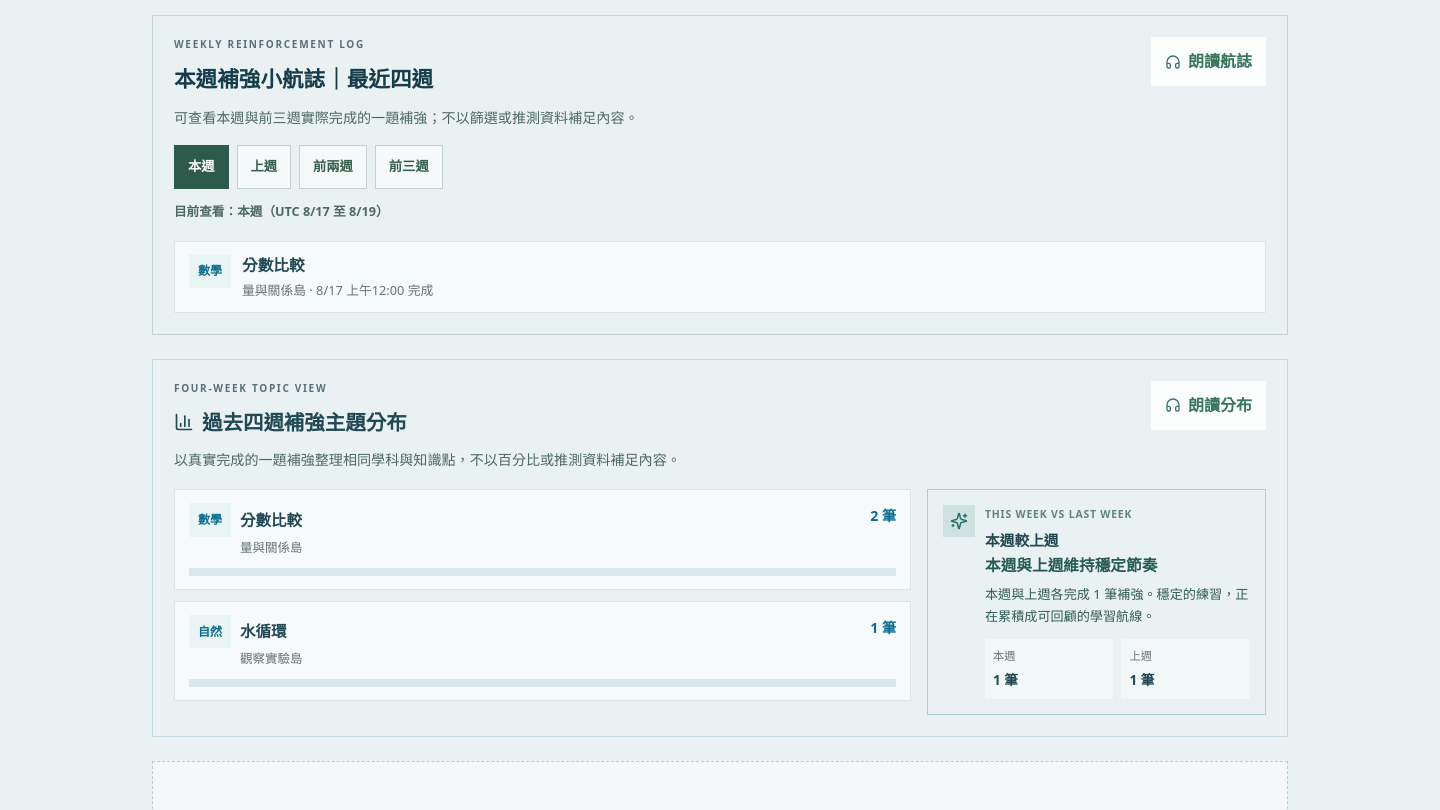
Test: TeacherParentSummary › shows a screen-reader-friendly four-week topic distribution from real reinforcement records and reads it
The image size is (1440, 810).
(page scrolled)
Expected: the element with test id "supporter-reinforcement-distribution" shows "過去四週補強主題分布", [202,408,407,436]
Expected: the element with test id "supporter-reinforcement-distribution" shows "分數比較", [189,503,896,576]
Click the button with aria-label "朗讀過去四週補強主題分布" at (1208, 405), box [1151,381,1266,430]
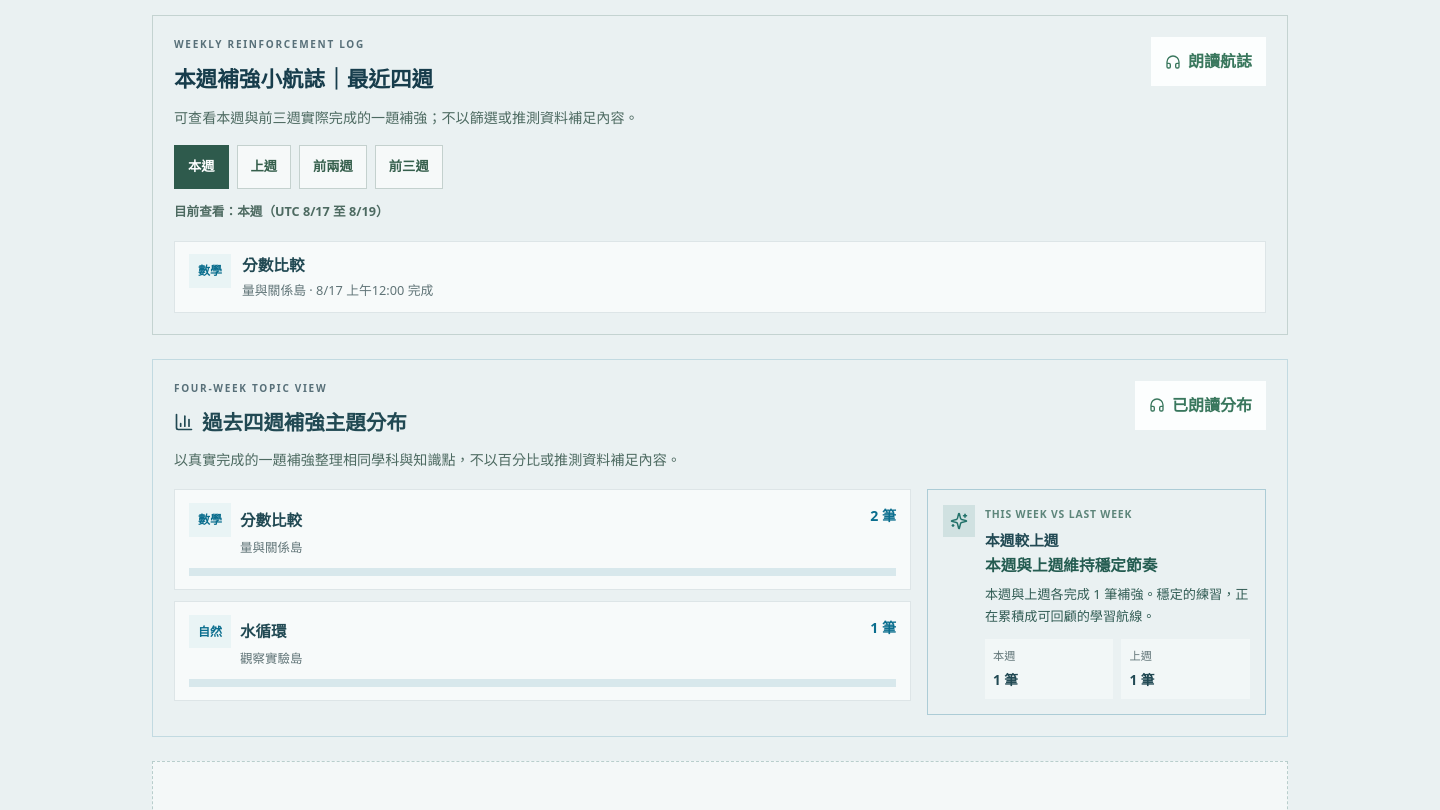
Now the button with aria-label "朗讀過去四週補強主題分布" reads "已朗讀分布", box [1135,381,1266,430]
